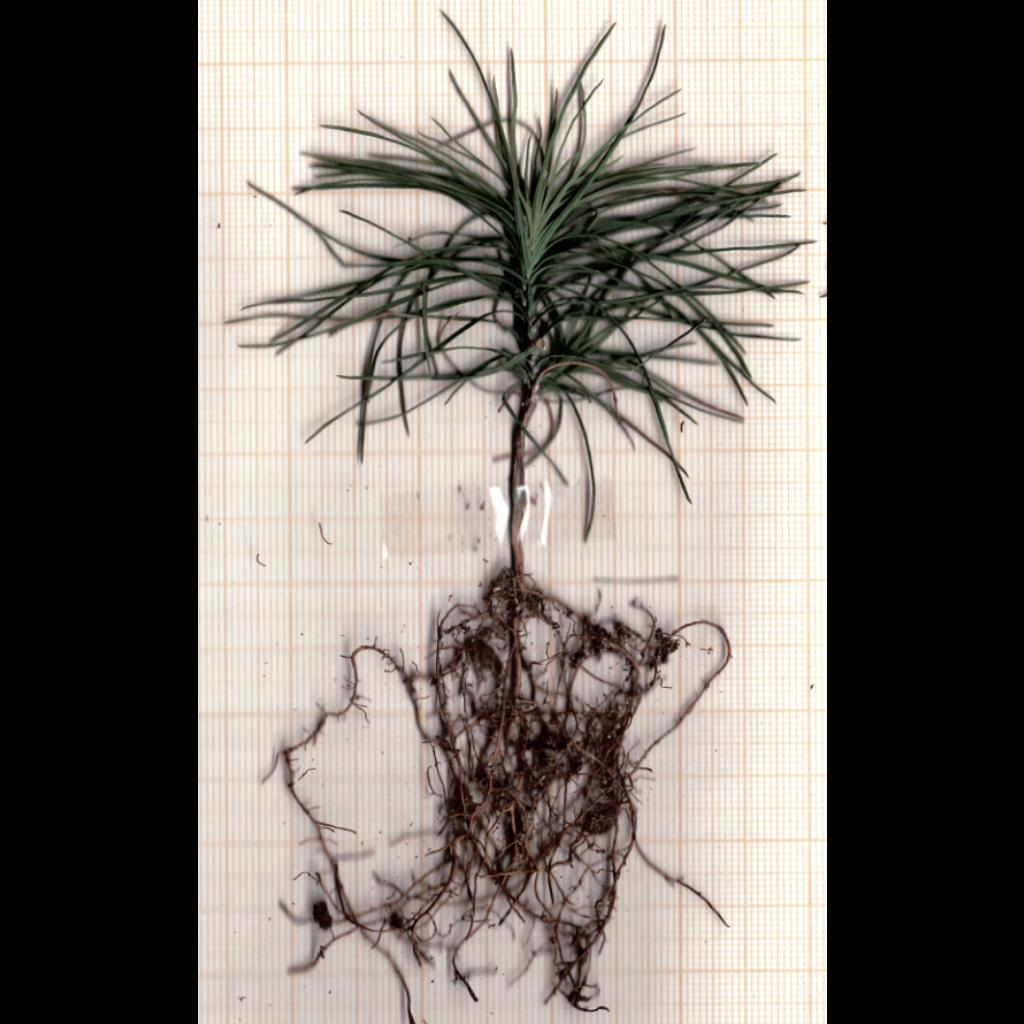flowerCedr: (233, 15, 805, 538)
rootCedr: (282, 569, 730, 1013)
stemCedr: (510, 386, 537, 576)
